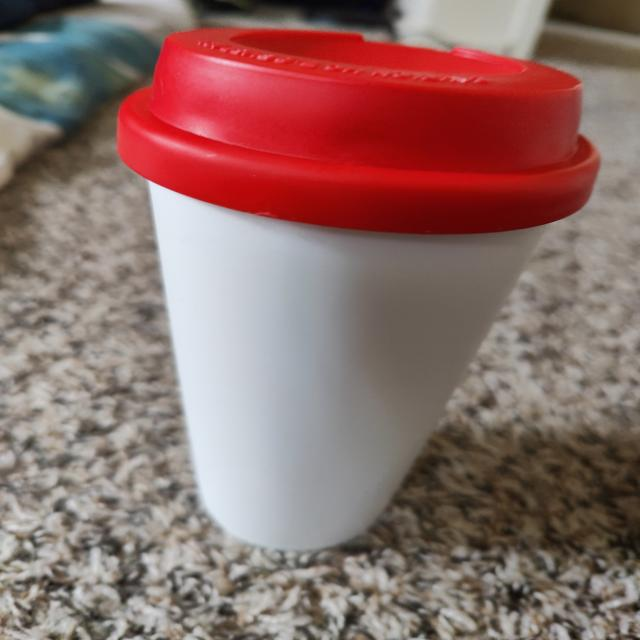mug: (120, 18, 582, 538)
